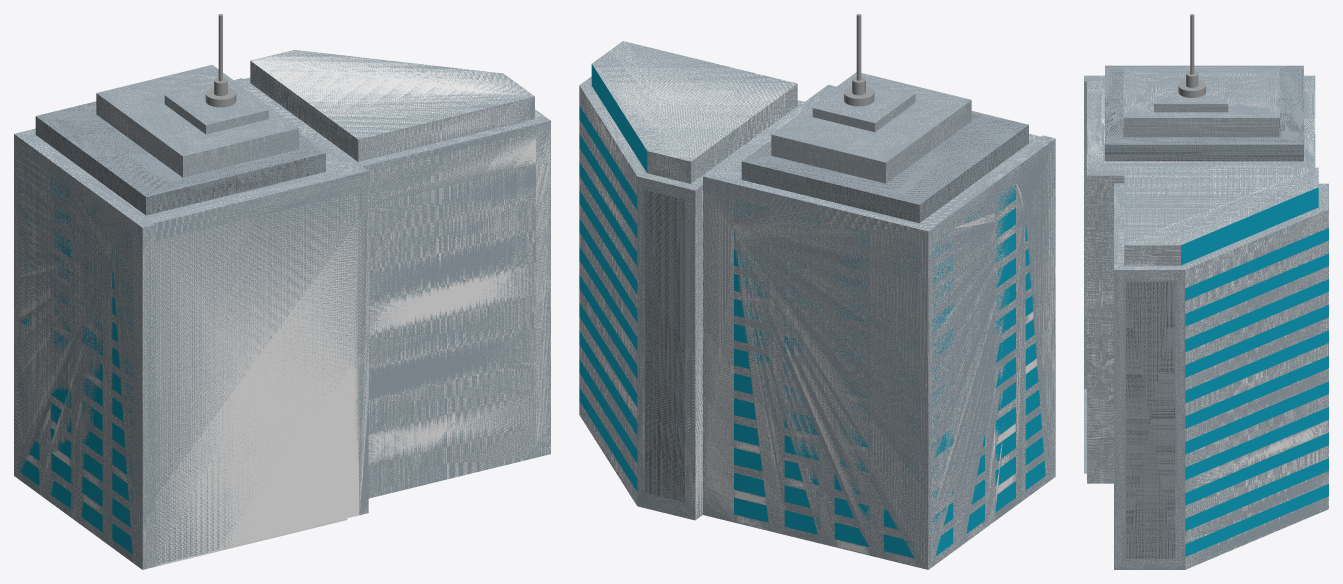
Rendered from Building2.fbx.
3 renders of one model, left to right at view 1: azimuth 30°, elevation 25°; view 2: azimuth 150°, elevation 25°; view 3: azimuth 270°, elevation 25°, orthographic. The views are drawn at different scales.
Parts seen in each view (by area): view 1: Group1; view 2: Group1; view 3: Group1.
Part boxes in pixels (<box>): Group1: <box>14,14,550,569</box>; Group1: <box>579,14,1055,569</box>; Group1: <box>1084,14,1328,569</box>.
Size of the model in its own units: 5325 by 5714 by 2955.
